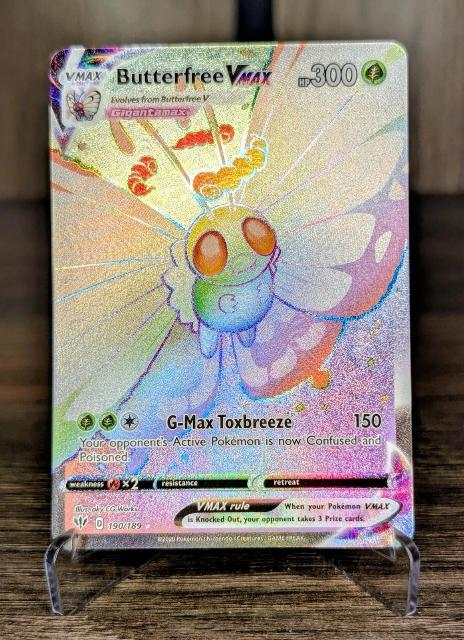Card: (46, 37, 419, 550)
Name: (116, 64, 282, 89)
